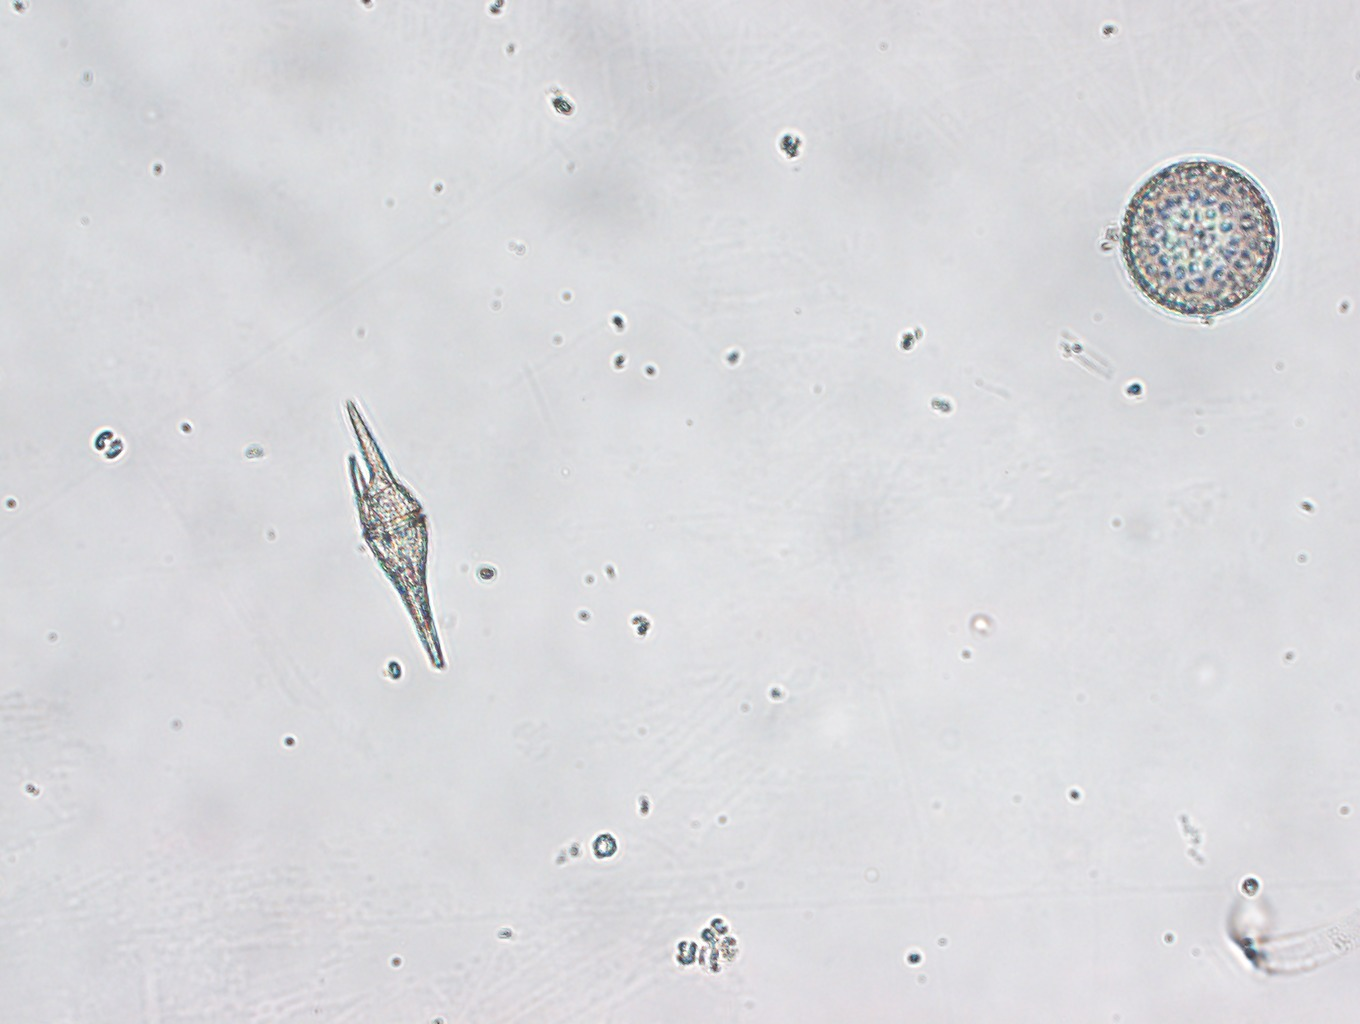ceratium furca: (342, 397, 447, 675)
coscinodiscus: (1120, 156, 1280, 319)
